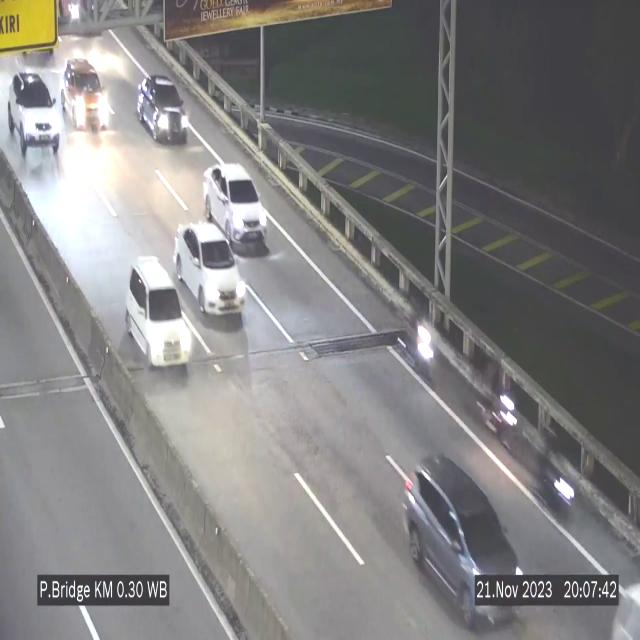Car: (396, 442, 528, 633), (125, 257, 192, 369), (174, 222, 244, 316), (204, 163, 268, 249), (5, 66, 63, 156), (62, 51, 108, 137), (137, 74, 189, 143)
Motorcycle: (477, 364, 520, 460), (534, 422, 574, 520), (405, 299, 436, 385)
